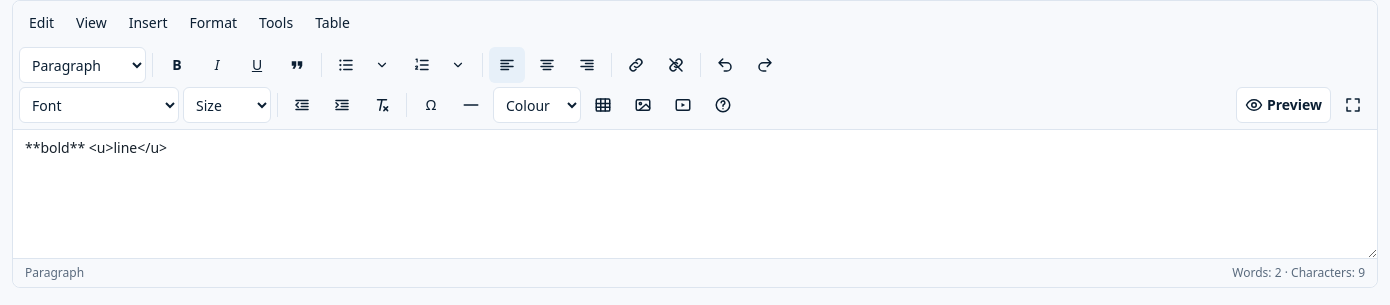
MarkdownTextarea inline formatting › clears the formatting of the selection
The image size is (1390, 305).
What coordinates should you click on to do the following:
click the button named "Clear formatting"
I would click on:
 (382, 105)
Its box is [364,87,400,123].
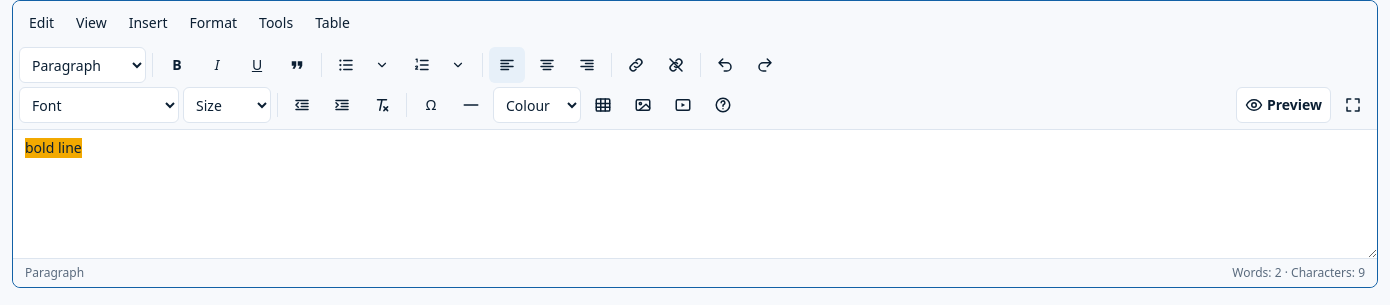
Now the text box named "Body" holds "bold line", box [13,130,1377,258]
